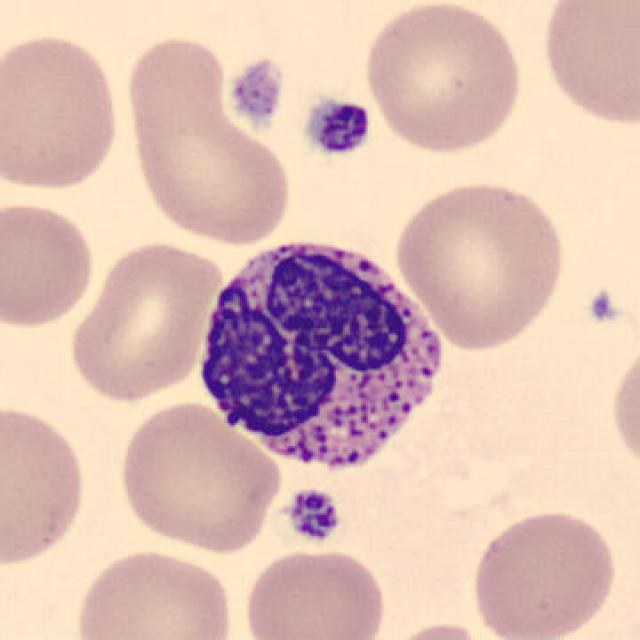Basophil: (189, 226, 455, 487)
Platelets: (224, 56, 286, 130), (301, 95, 375, 157), (285, 486, 343, 544), (588, 286, 626, 326)
RBC: (119, 32, 297, 248), (391, 176, 569, 353), (114, 397, 284, 555), (64, 236, 222, 404), (359, 0, 526, 157), (0, 28, 124, 195), (466, 506, 620, 640), (0, 397, 91, 573), (70, 545, 236, 640), (238, 545, 389, 640), (535, 0, 640, 132), (0, 196, 98, 333), (606, 337, 640, 483), (375, 617, 503, 640)
